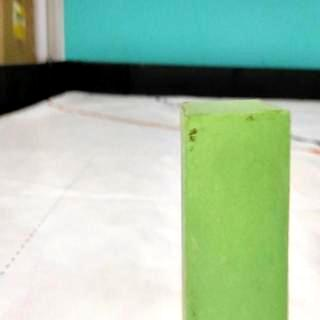greenbox: (180, 102, 290, 320)
